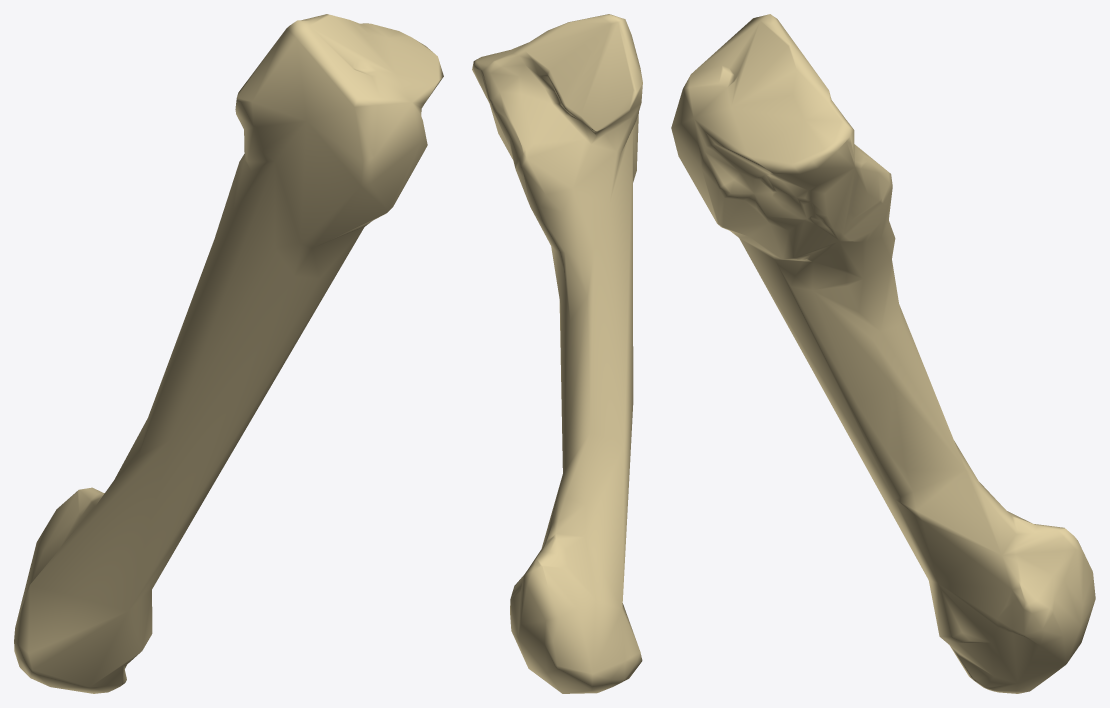
3 renders of one model, left to right at view 1: azimuth 30°, elevation 25°; view 2: azimuth 150°, elevation 25°; view 3: azimuth 270°, elevation 25°, orthographic. The views are drawn at different scales.
Visible parts, largest first — view 1: 右侧第四跖骨; view 2: 右侧第四跖骨; view 3: 右侧第四跖骨.
Boxes of the visible parts, left/top/right/bottom form: 右侧第四跖骨: left=14, top=14, right=443, bottom=693; 右侧第四跖骨: left=472, top=14, right=642, bottom=693; 右侧第四跖骨: left=671, top=14, right=1095, bottom=693.
Size of the model in its own units: 0.044 by 0.101 by 0.0545.
